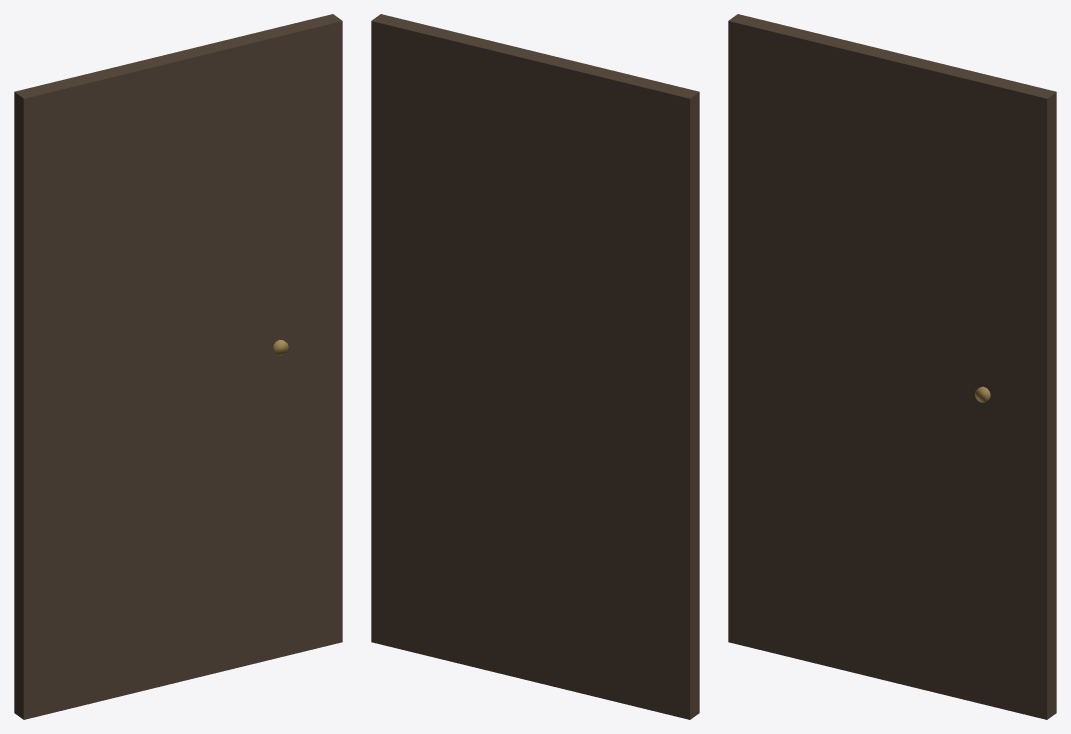
The model's file is door.glb.
The picture shows the model from 3 angles, left to right: view 1: azimuth 30°, elevation 25°; view 2: azimuth 150°, elevation 25°; view 3: azimuth 330°, elevation 25°; orthographic projection.
Visible parts, largest first — view 1: doorFrame; view 2: doorFrame; view 3: doorFrame.
Part boxes in pixels (x1=…): doorFrame: x1=14, y1=14, x2=342, y2=719; doorFrame: x1=371, y1=14, x2=699, y2=719; doorFrame: x1=728, y1=14, x2=1056, y2=719.
Size of the model in its own units: 1.16 by 2.16 by 0.075.
